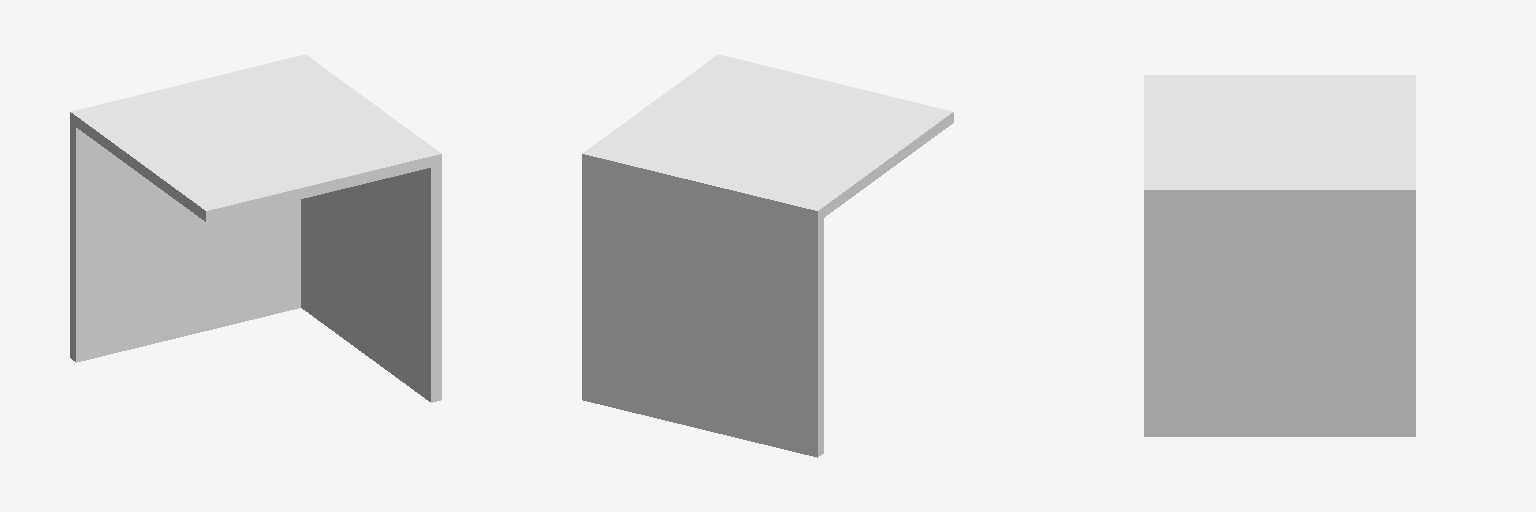
The model's file is mesh_hanger_ceiling_corner.obj.
3 renders of one model, left to right at view 1: azimuth 30°, elevation 25°; view 2: azimuth 150°, elevation 25°; view 3: azimuth 270°, elevation 25°, orthographic.
Visible parts, largest first — view 1: object 1; view 2: object 1; view 3: object 1.
Boxes of the visible parts, x1=… form: object 1: x1=70, y1=54, x2=441, y2=402; object 1: x1=582, y1=54, x2=953, y2=457; object 1: x1=1144, y1=75, x2=1415, y2=436.
Bounding box in the file's own units: 4.4 × 4.4 × 4.4.